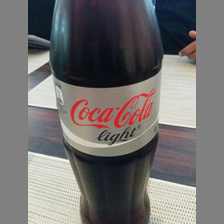soda: (50, 1, 163, 224)
